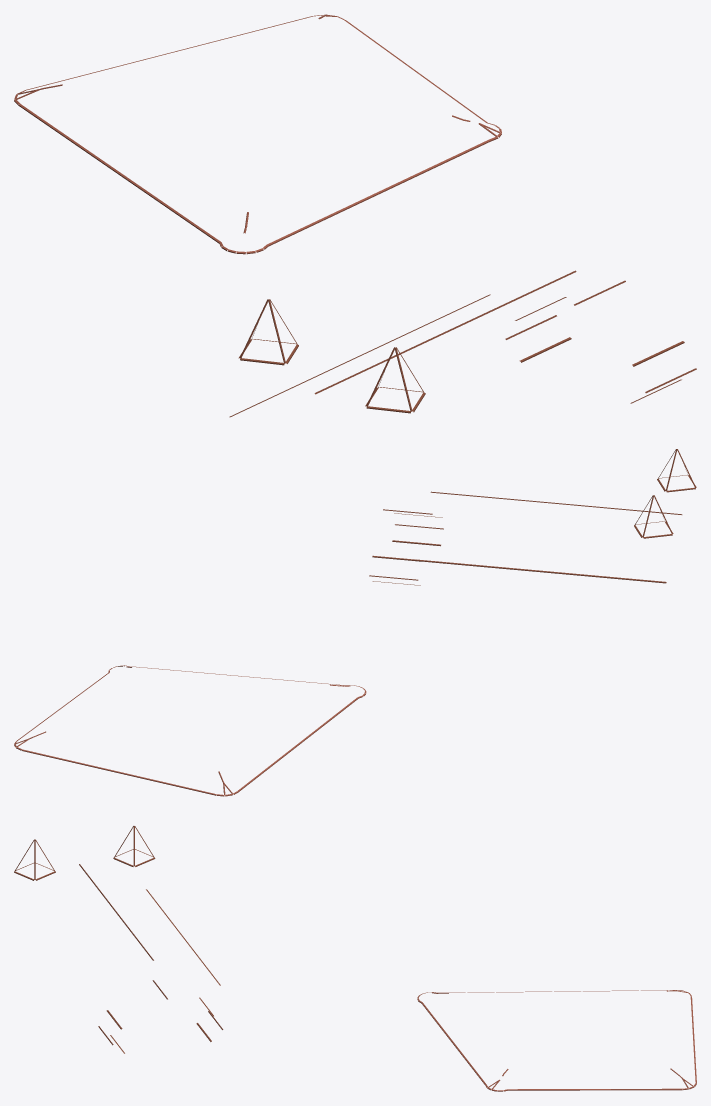
3 views of the same model, one above another, from view 1: azimuth 30°, elevation 25°; view 2: azimuth 150°, elevation 25°; view 3: azimuth 270°, elevation 25° (orthographic). The views are drawn at different scales.
Parts seen in each view (by area): view 1: detail; view 2: detail; view 3: detail.
Boxes of the visible parts, <box> form: detail: <box>14,14,696,417</box>; detail: <box>14,449,696,796</box>; detail: <box>14,826,696,1091</box>.
Size of the model in its own units: 89.23 by 27.04 by 154.
